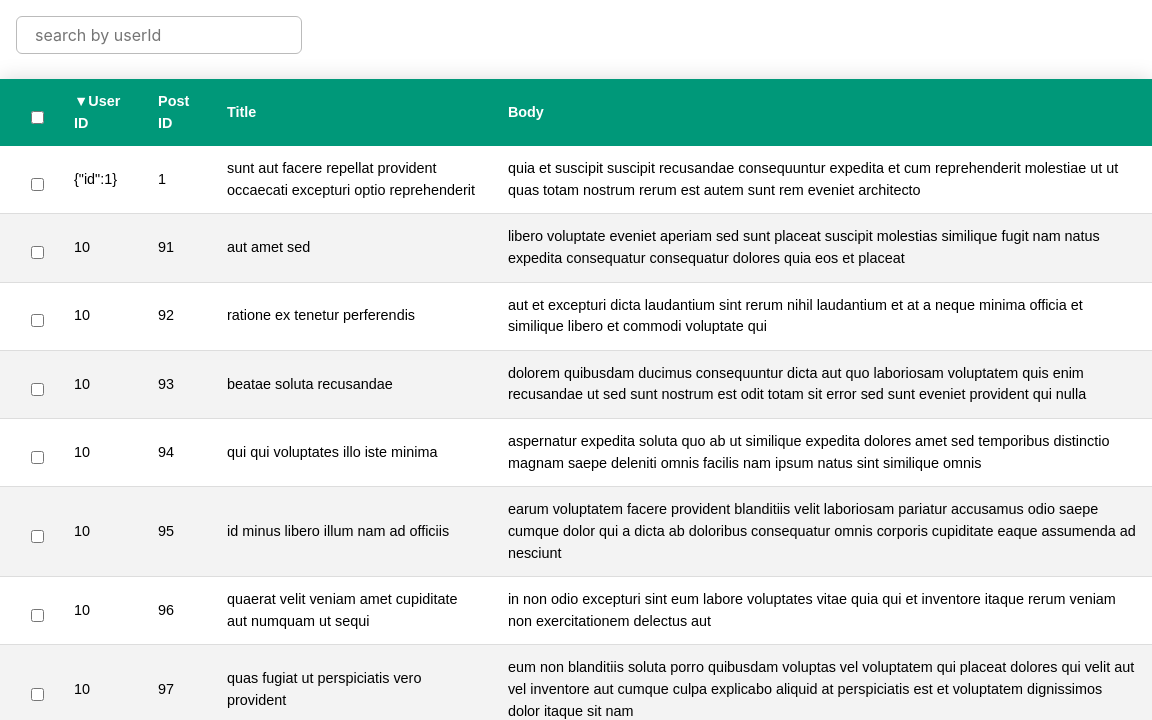
Test case: resets selection when changing page, and updates url
The width and height of the screenshot is (1152, 720).
Click the checkbox titled "checkbox-all" at (38, 117), box x1=31 y1=111 x2=44 y2=124
(page scrolled)
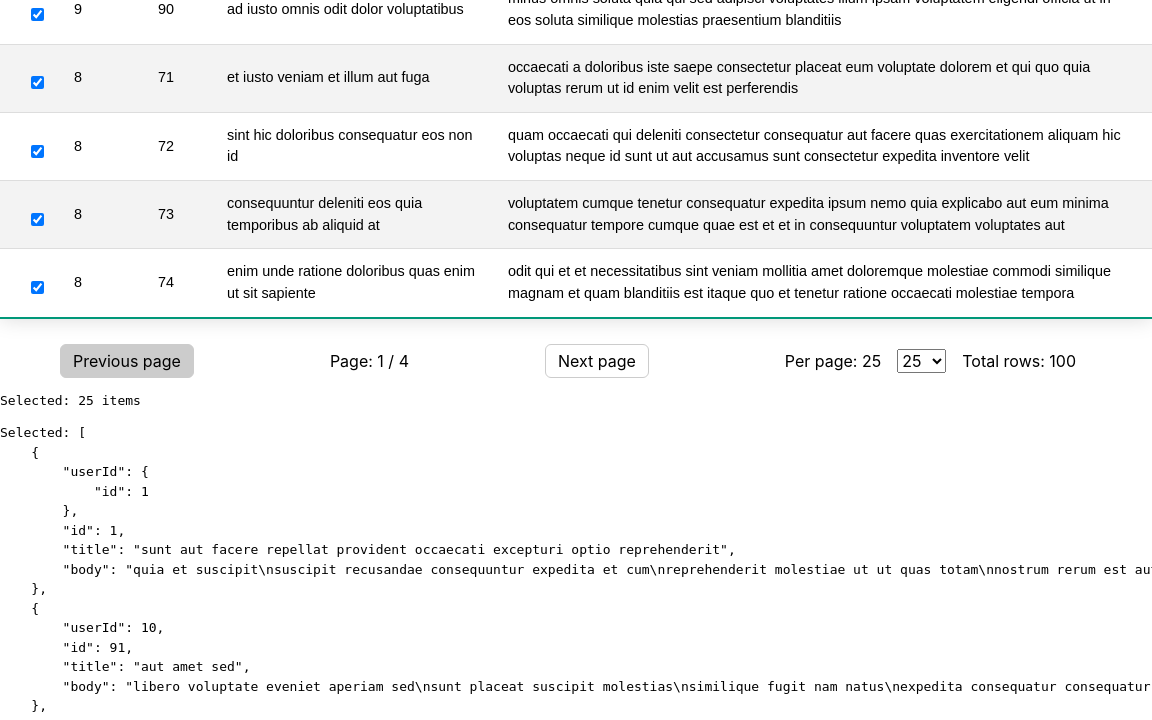
Click the button titled "next-button" at (597, 360), box x1=545 y1=344 x2=649 y2=378
(page scrolled)
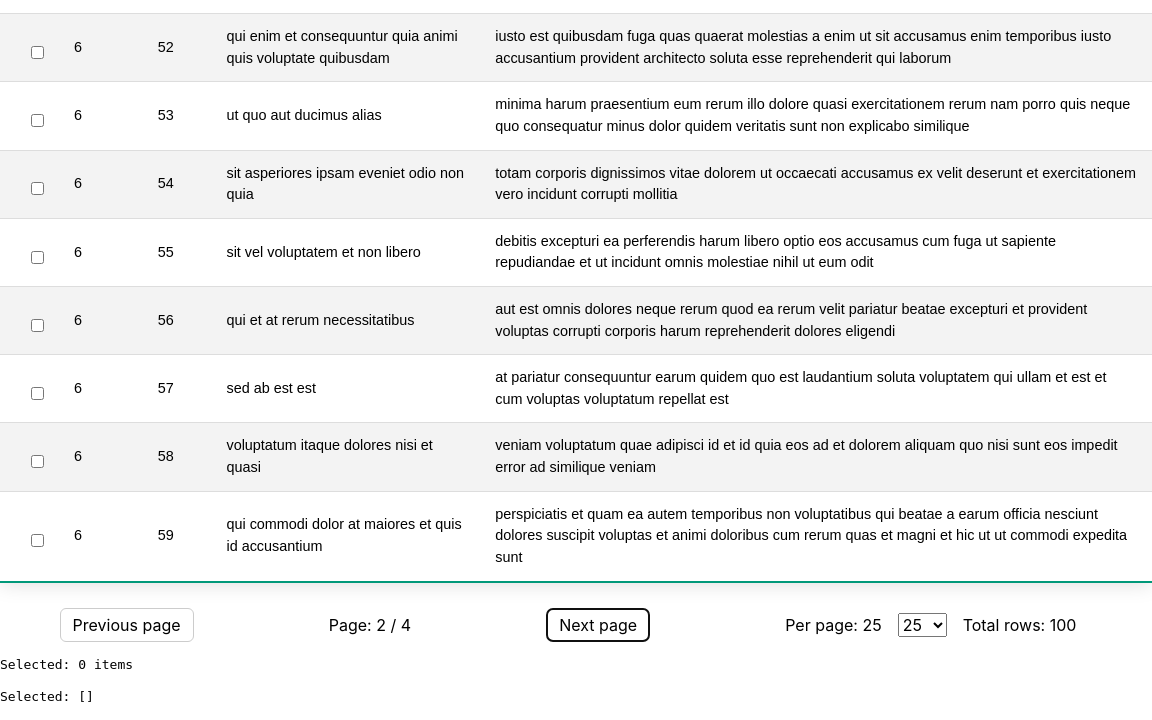
Now the text titled "current-page" reads "Page: 2 / 4", box x1=329 y1=612 x2=411 y2=636
